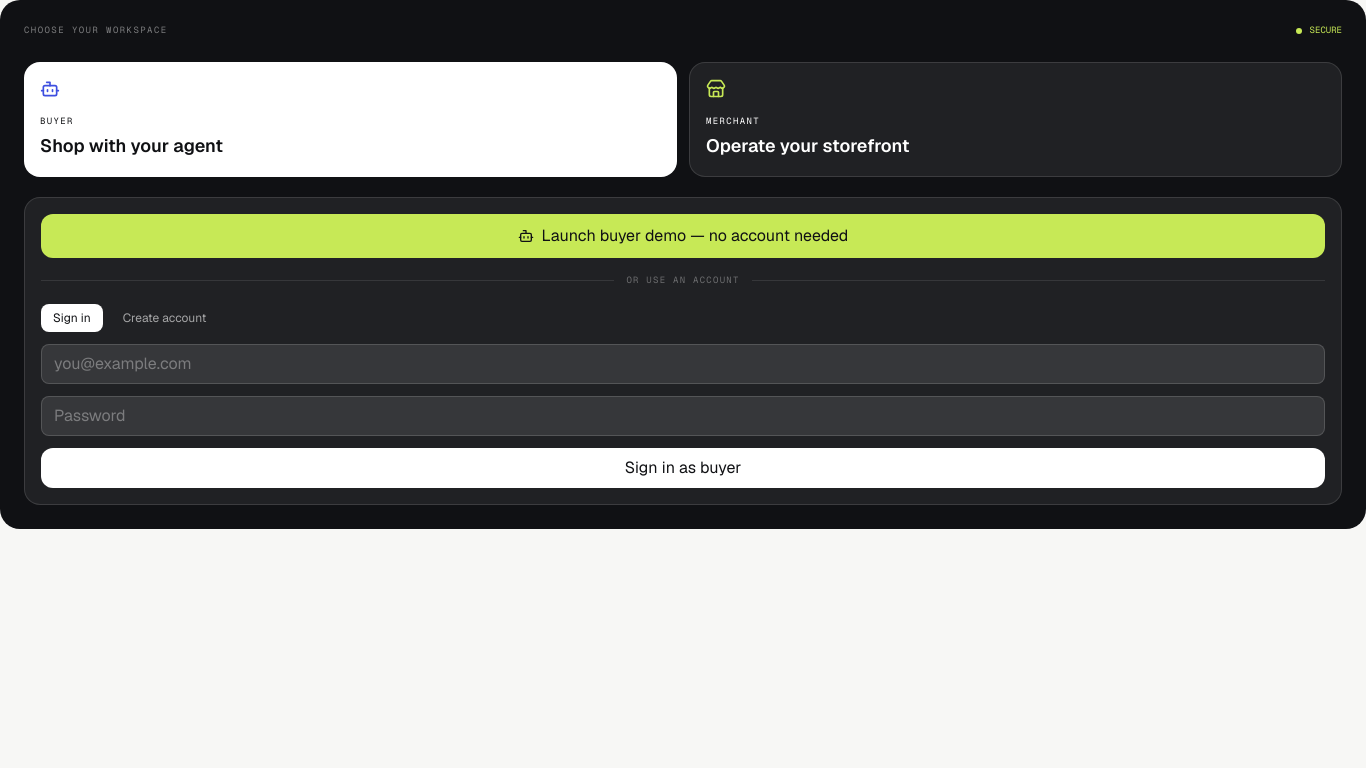
workspace authentication › requires a fresh explicit sign-in after passkey enrollment during account creation
Click the button "Create account": (165, 318) [111, 304, 218, 332]
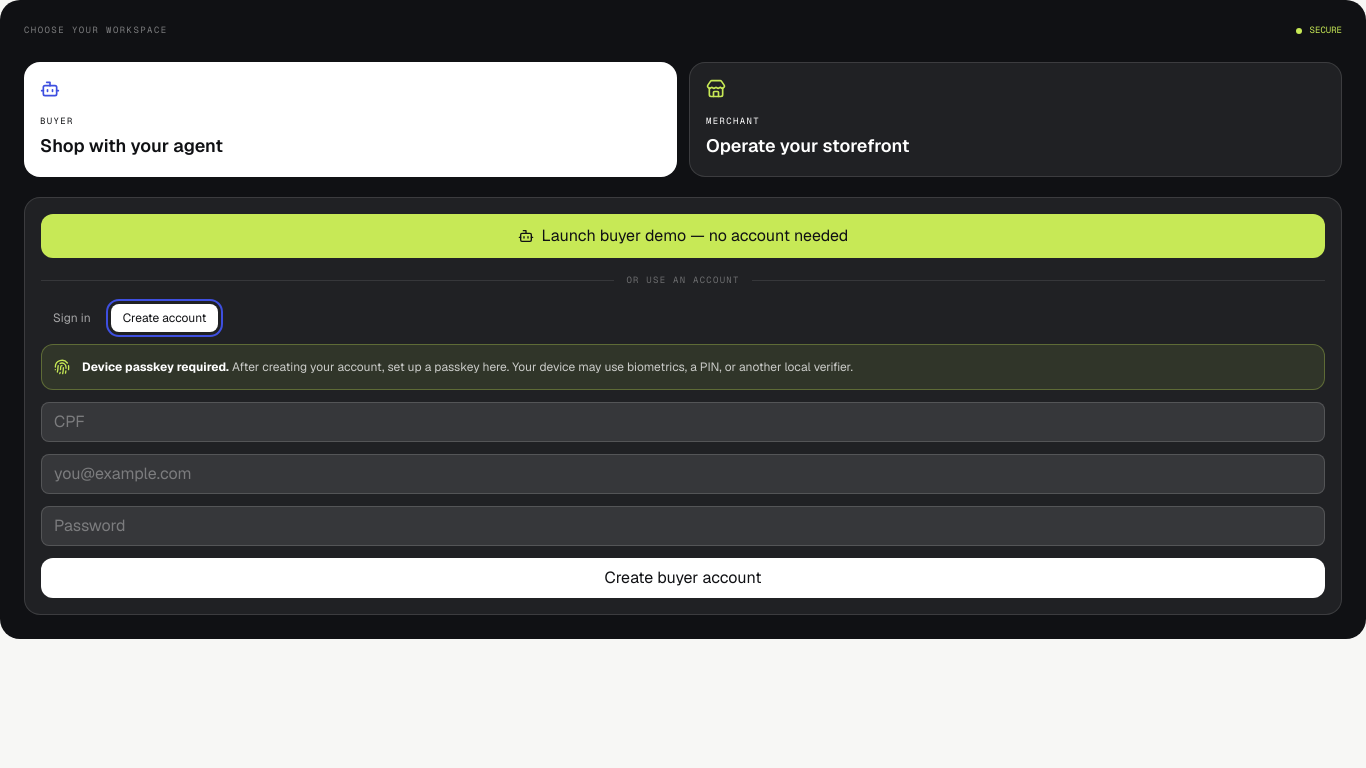
In the field named "Email": (683, 474) [41, 454, 1325, 494], type "buyer@example.com"
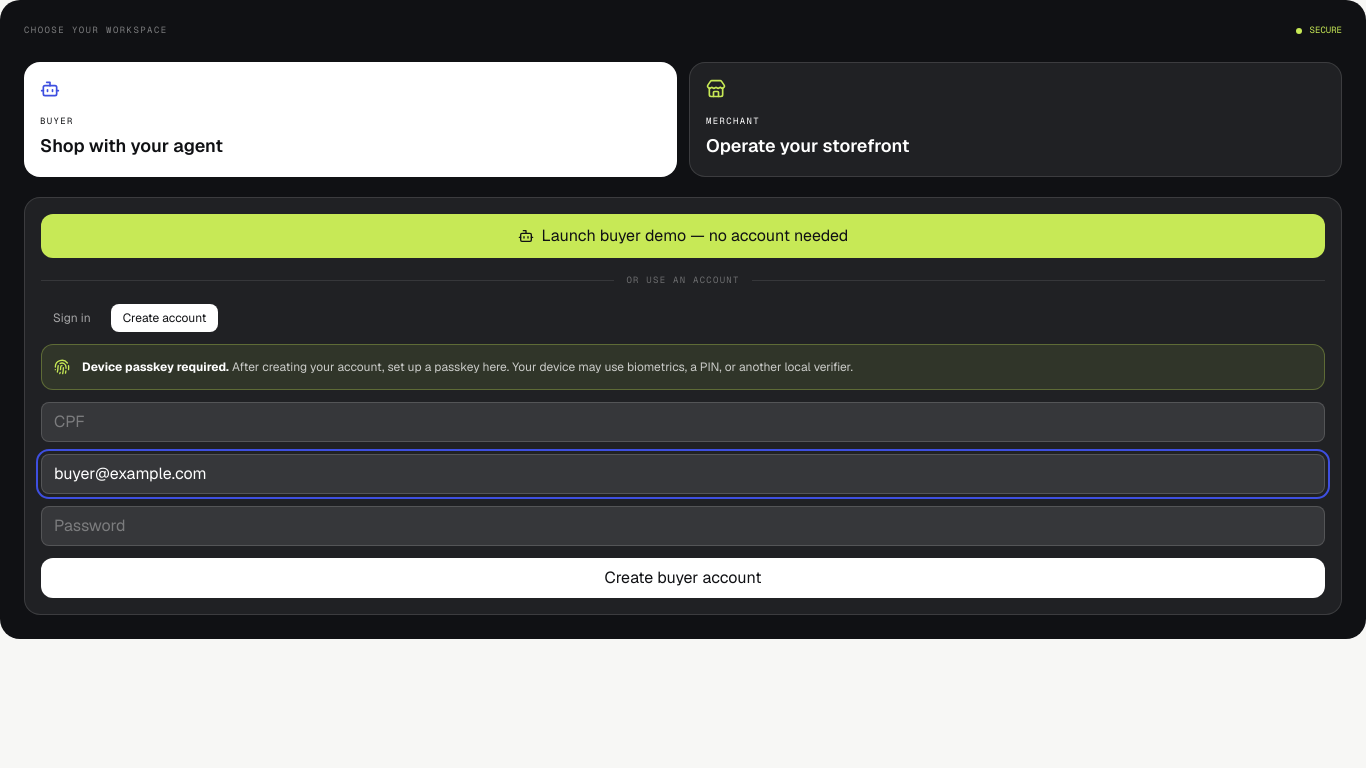
In the field labelled "CPF": (683, 422) [41, 402, 1325, 442], type "529.982.247-25"
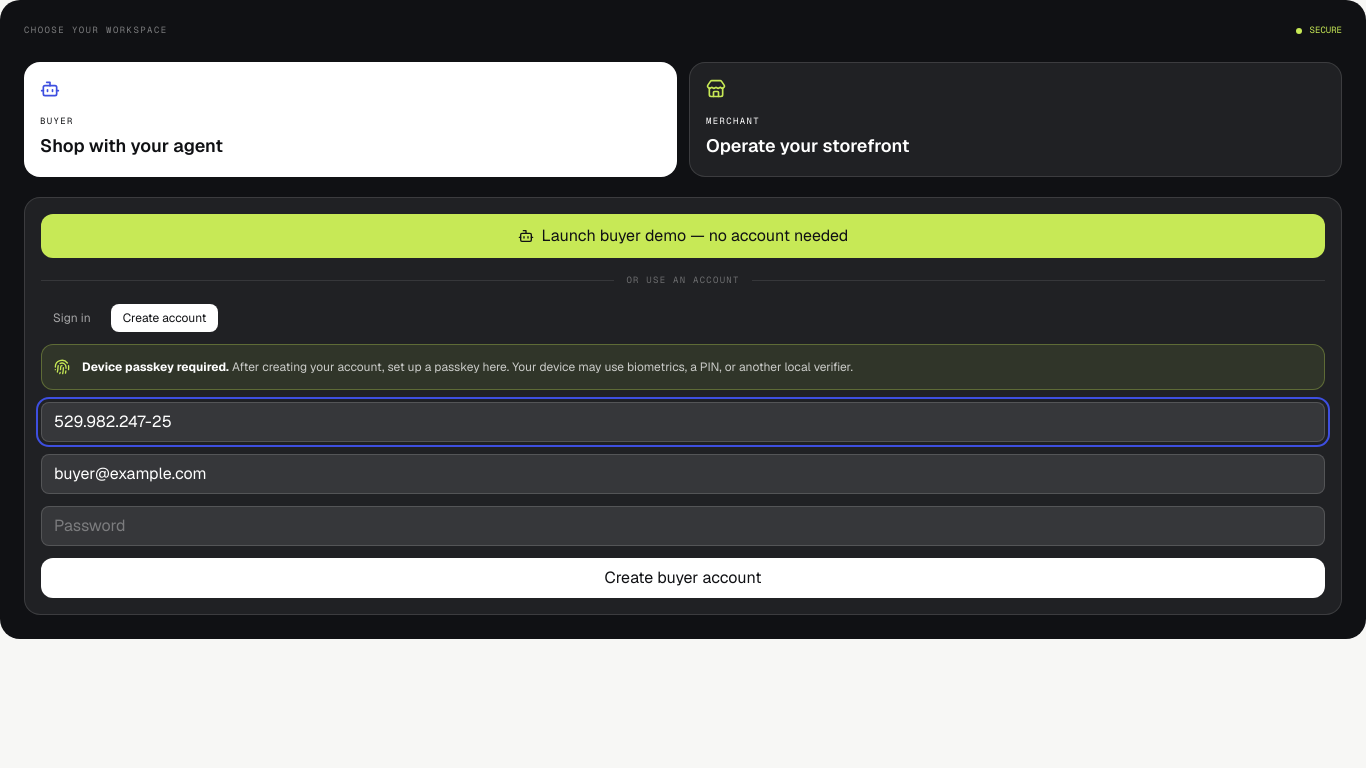
In the password field labelled "Password": (683, 526) [41, 506, 1325, 546], type "password123"
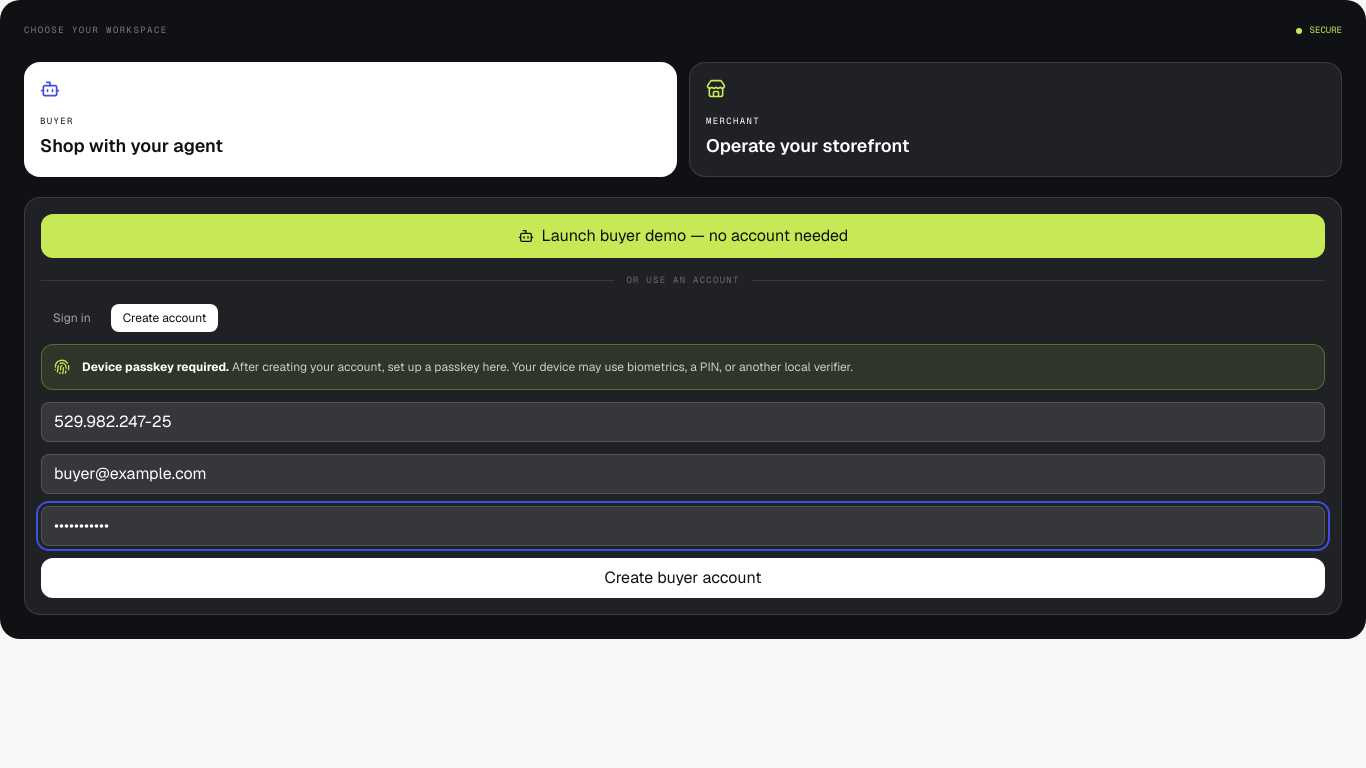
Click the button "Create buyer account": (683, 578) [41, 558, 1325, 598]
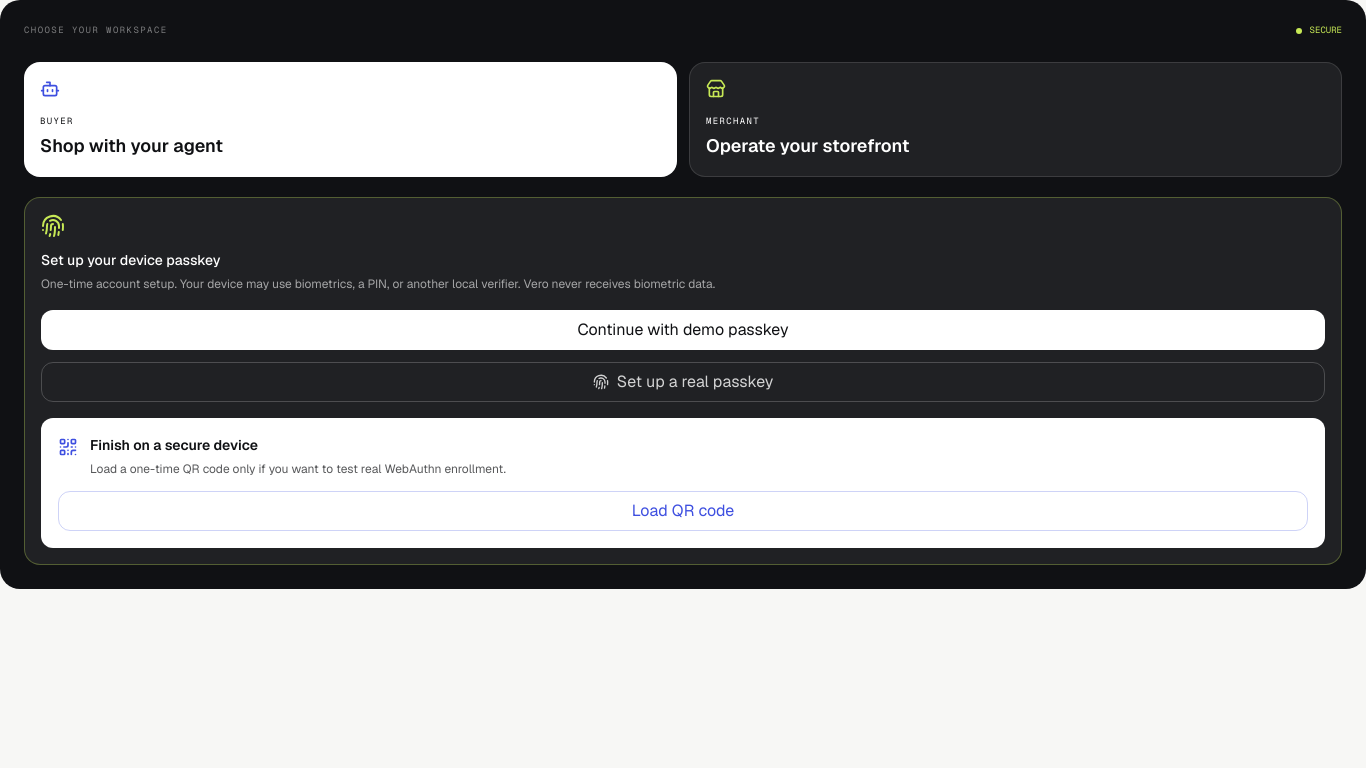
Click the button "Set up a real passkey": (683, 382) [41, 362, 1325, 402]
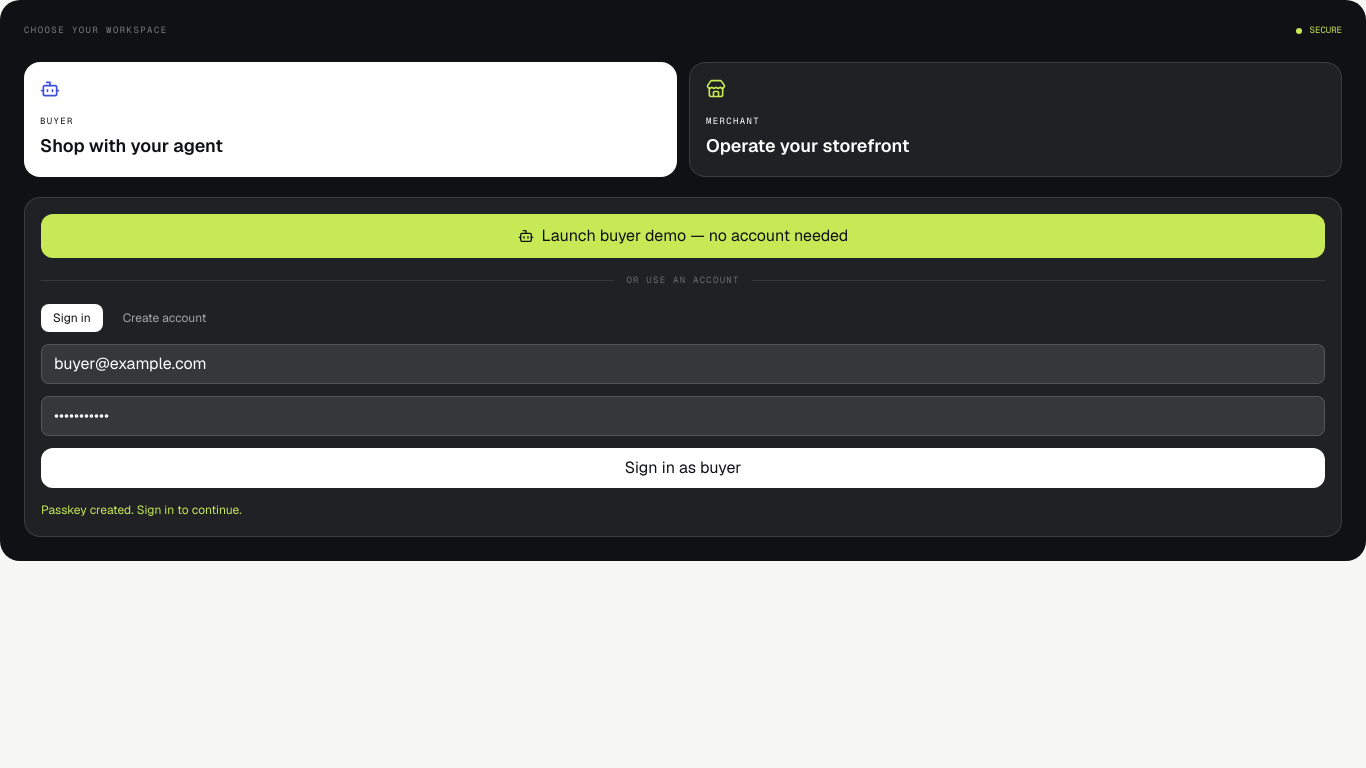
Expected: the button "Sign in as buyer" is shown, [41, 448, 1325, 488]
